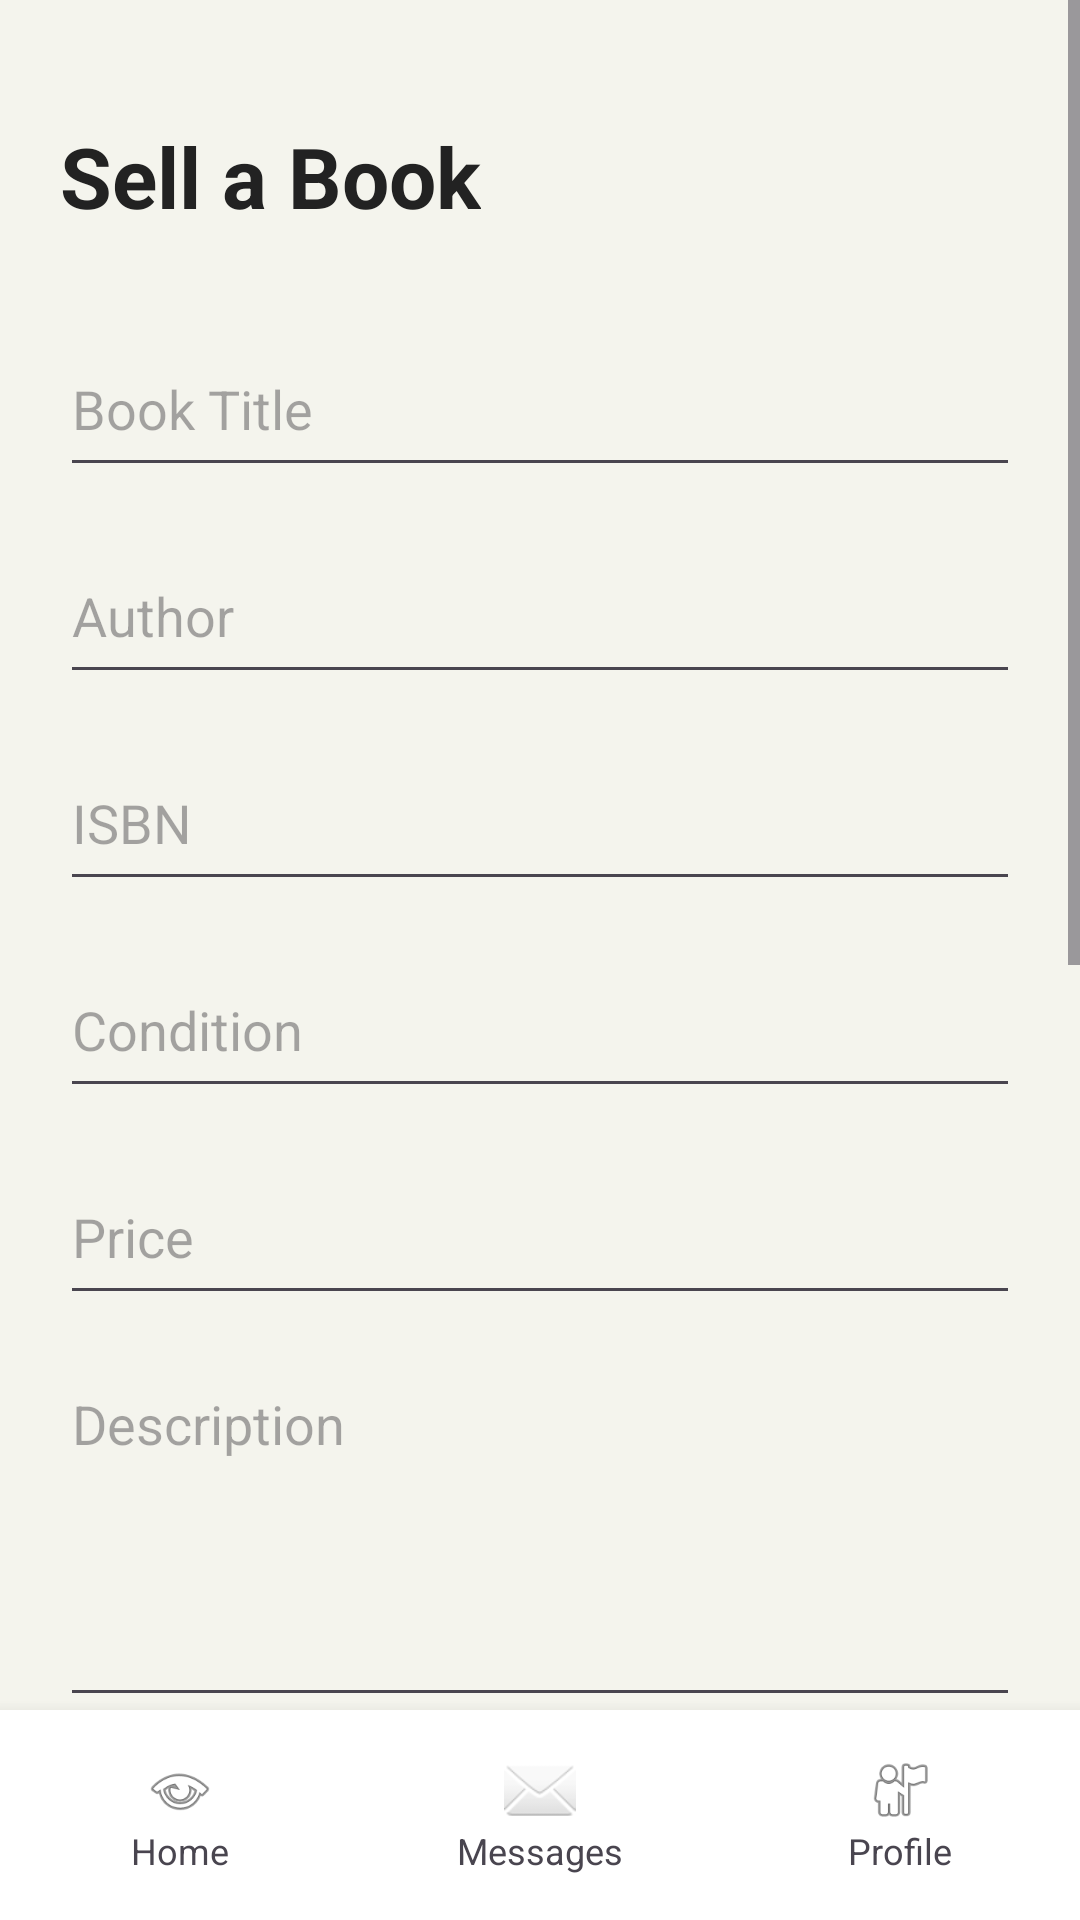

Point at icon controls on the screen. Image size 1080w x 1920h, points as [x,y].
email: [540,1791]
view: [180,1791]
